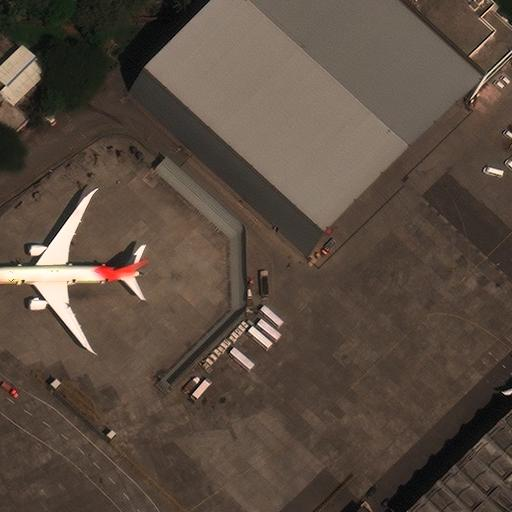Large Civil Transport: (0, 187, 147, 355)
